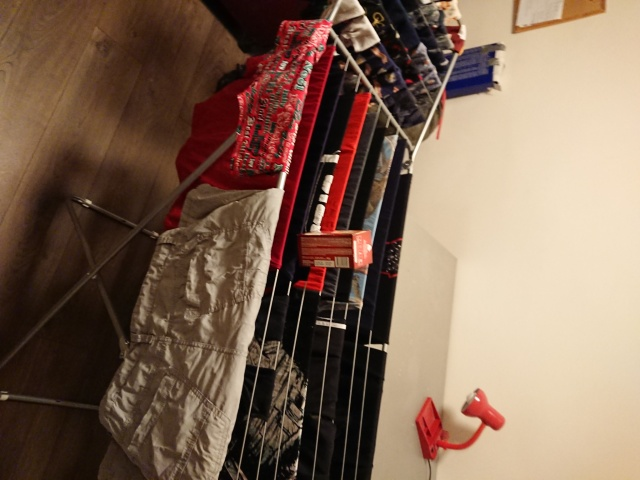Franck Apple Cinnamon Tea 60g: (293, 227, 376, 272)
